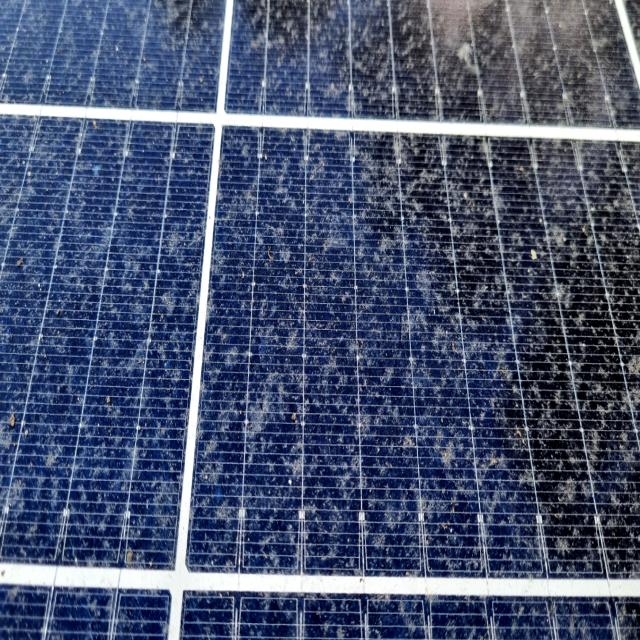dust: (224, 128, 628, 560), (0, 128, 205, 528), (237, 8, 611, 114), (191, 595, 628, 640)
